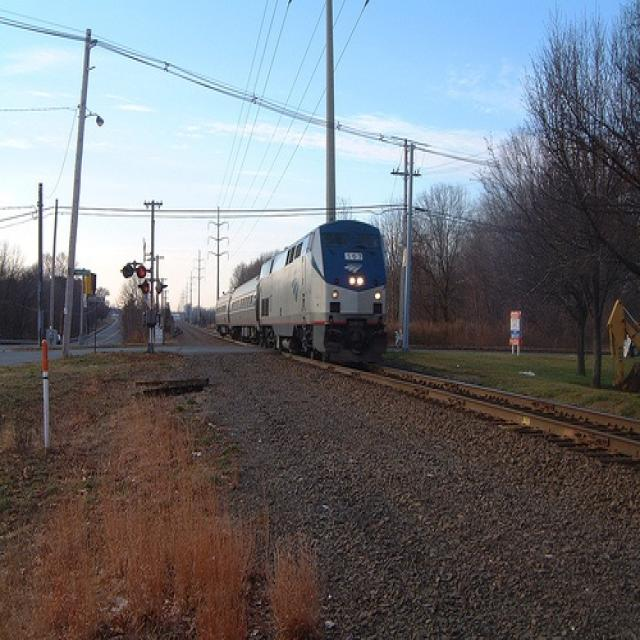train: (209, 215, 403, 376)
